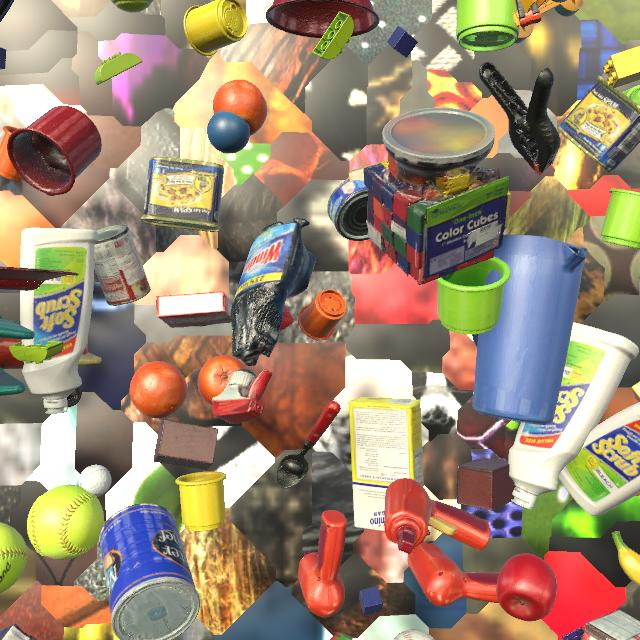ycb_002_master_chef_can: (99, 503, 200, 640)
ycb_004_sugar_box: (349, 397, 424, 531)
ycb_005_tomato_soup_can: (94, 224, 151, 306)
ycb_007_tuna_fish_can: (327, 179, 369, 241)
ycb_008_pudding_box: (581, 609, 640, 640), (639, 276, 640, 293)
ycb_009_gelatin_box: (156, 291, 232, 328)
ycb_010_potted_meat_can: (557, 75, 640, 173), (141, 156, 224, 232)
ycb_011_banana: (611, 531, 640, 586)
ycb_012_strawberry: (279, 305, 294, 331), (330, 633, 353, 640)
ycb_013_apple: (496, 553, 557, 621)
ycb_017_orange: (130, 361, 188, 419), (213, 79, 267, 136), (198, 355, 247, 406)
